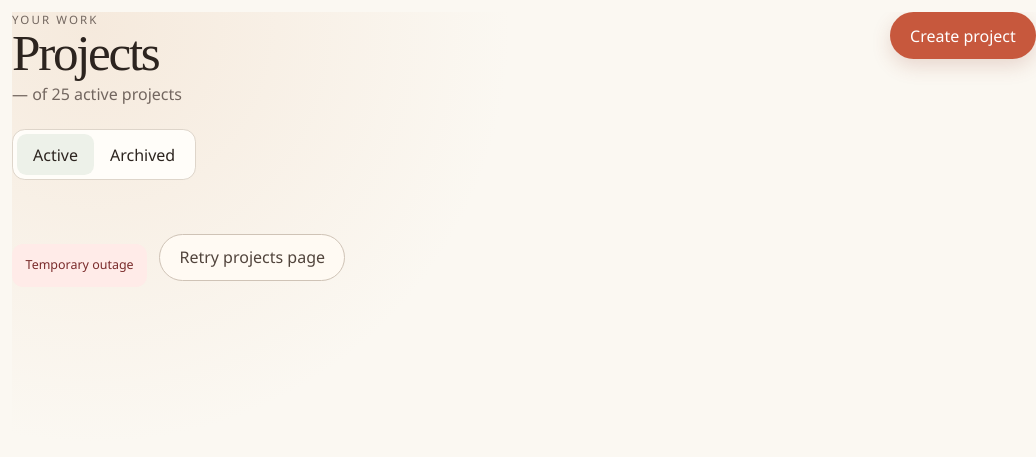
Test: complete archived project discovery › does not present a failed active-project load as an empty workspace
Click the button "Retry projects page" at {"x": 252, "y": 258}, box [159,234,345,281]
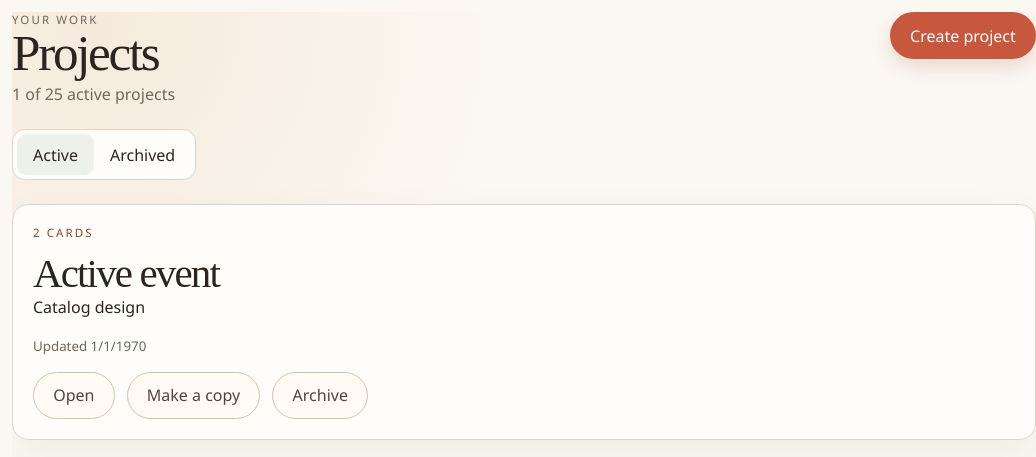
Expected: the heading "Active event" is shown, [33,250,219,296]
Expected: the message "Temporary outage" is gone
